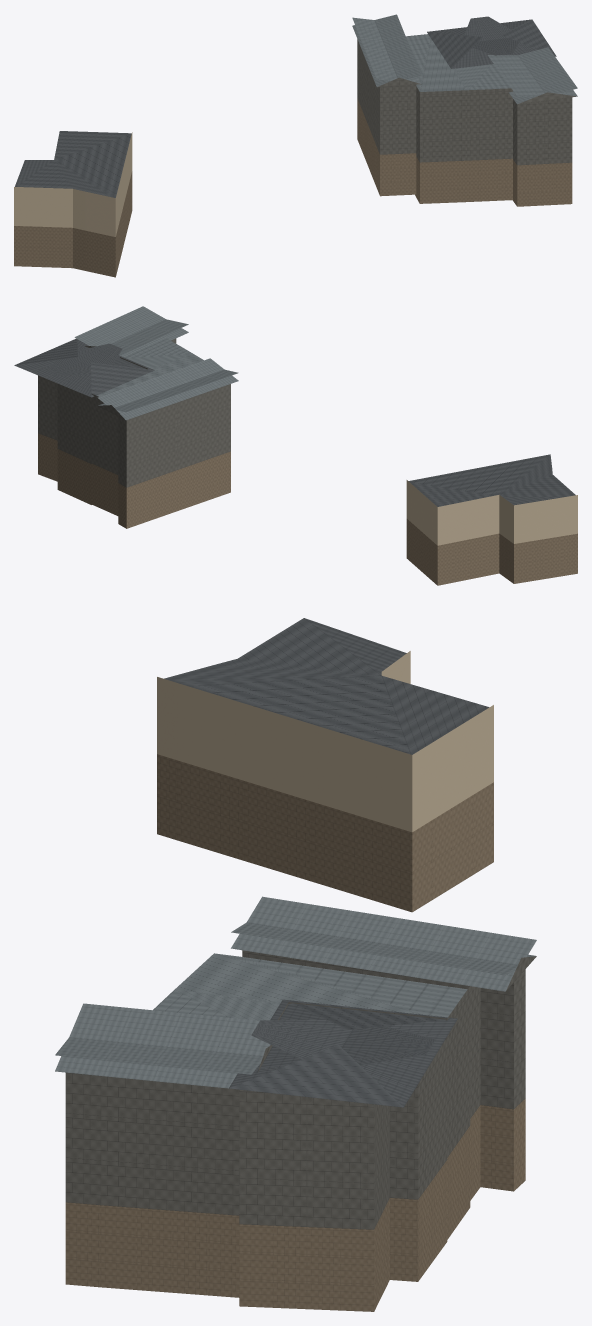
The model's file is bld_c2_17_466.gltf.
3 renders of one model, top to bottom at view 1: azimuth 30°, elevation 25°; view 2: azimuth 150°, elevation 25°; view 3: azimuth 270°, elevation 25°, orthographic. The views are drawn at different scales.
Parts seen in each view (by area): view 1: bld_c2_17_466; view 2: bld_c2_17_466; view 3: bld_c2_17_466.
Part boxes in pixels (bbox=[...]): bld_c2_17_466: bbox=[14, 14, 577, 277]; bld_c2_17_466: bbox=[14, 306, 577, 585]; bld_c2_17_466: bbox=[55, 618, 536, 1311].
Size of the model in its own units: 70.06 by 15.3 by 27.14.
7 materials, 7 textured.
